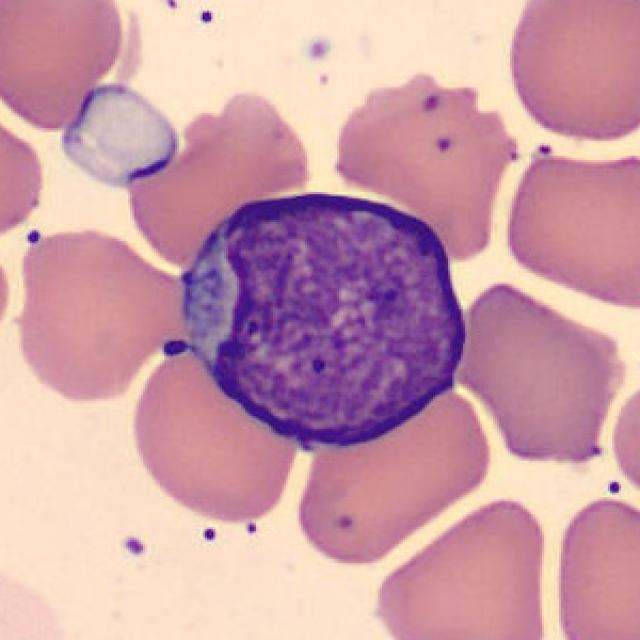WBC: (162, 170, 516, 457)
